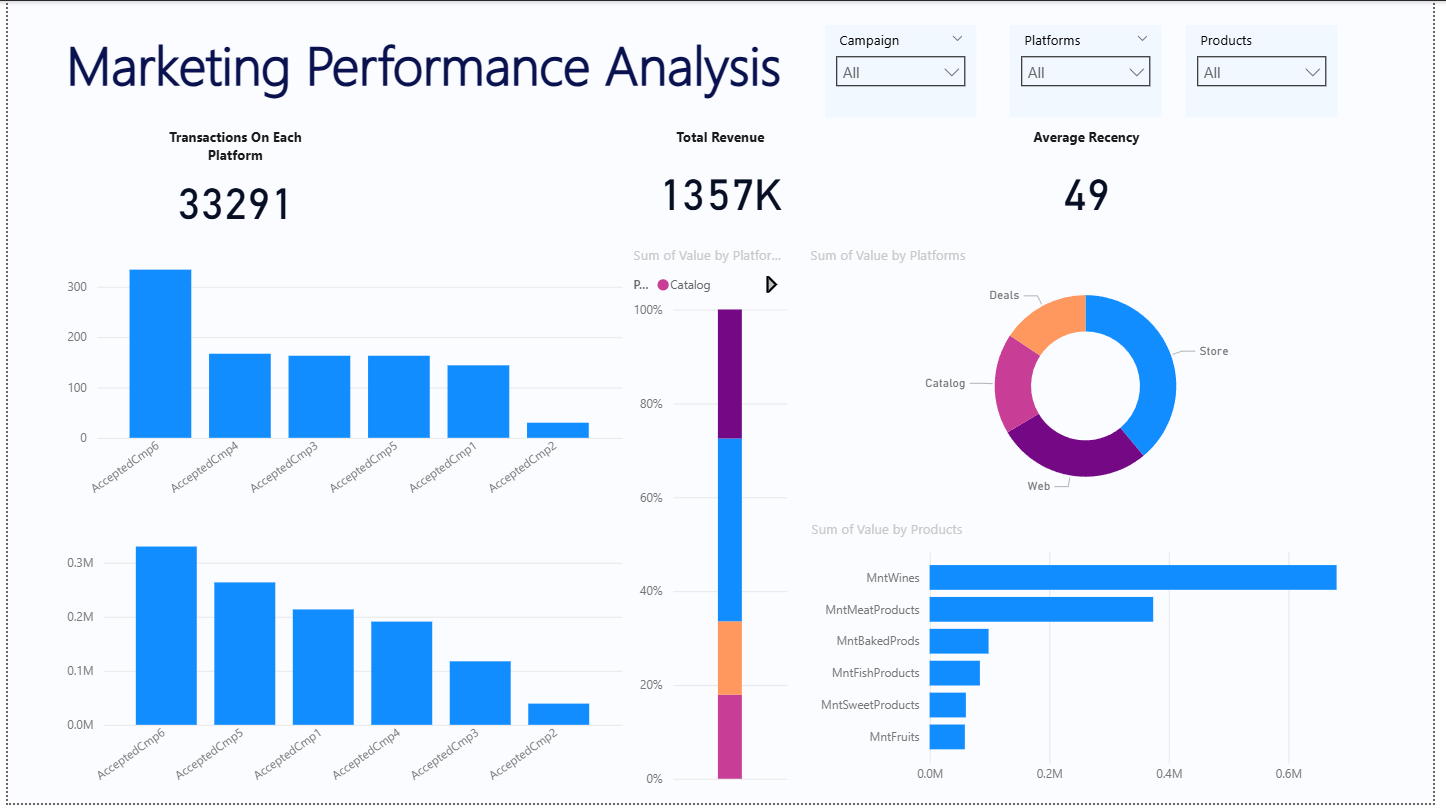

Layout of this report page (visuals, bound fields, positions):
{"tool":"powerbi","page":{"name":"Page 1","canvas":[1280,720],"ordinal":0},"visuals":[{"type":"clusteredColumnChart","fields":{"Y":["Sum(Campaign_Table.Value)"],"Category":["Campaign_Table.Campaign"]},"box":[47.6,220,509,235.2],"z":0},{"type":"clusteredColumnChart","fields":{"Y":["Measures_table.Total_Sales_By_Campaign"],"Category":["Campaign_Table.Campaign"]},"box":[47.6,465.9,509,246.9],"z":1000},{"type":"clusteredBarChart","fields":{"Category":["Product_Table.Products"],"Y":["Sum(Product_Table.Value)"]},"box":[716.4,465.9,503.6,246],"z":2000},{"type":"textbox","box":[47.6,18.9,657.2,78.1],"z":3000},{"type":"hundredPercentStackedColumnChart","fields":{"Y":["Sum(Platform_Table.Value)"],"Series":["Platform_Table.Platforms"]},"box":[556.6,220,148.1,492],"z":3001},{"type":"slicer","fields":{"Values":["Campaign_Table.Campaign"]},"box":[733.5,21.5,136.5,83.5],"z":3002},{"type":"donutChart","fields":{"Category":["Platform_Table.Platforms"],"Y":["Sum(Platform_Table.Value)"]},"box":[715.5,220,503.6,235.2],"z":3003},{"type":"slicer","fields":{"Values":["Platform_Table.Platforms"]},"box":[899.6,21.5,136.5,83.5],"z":3004},{"type":"slicer","fields":{"Values":["Product_Table.Products"]},"box":[1057.6,21.5,136.5,83.5],"z":3005},{"type":"card","title":"Transactions On Each Platform","fields":{"Values":["Sum(Platform_Table.Value)"]},"box":[120.3,114,167.9,97],"z":3006},{"type":"card","title":"Total Revenue","fields":{"Values":["Sum(Product_Table.Value)"]},"box":[559.3,114,160.7,97],"z":3007},{"type":"card","title":"Average Recency","fields":{"Values":["Avg(Data_Dim.Recency)"]},"box":[887.9,114,160.7,97],"z":3008}]}

Visuals, with their boxes in screenshot pixels (x1, y1, x2, y2), scaled from the page's 1280x720 canvas onto the 1446x808 screenshot:
clusteredColumnChart - Sum(Campaign_Table.Value) x Campaign_Table.Campaign: box=[54, 247, 629, 511]
clusteredColumnChart - Measures_table.Total_Sales_By_Campaign x Campaign_Table.Campaign: box=[54, 523, 629, 800]
clusteredBarChart - Product_Table.Products x Sum(Product_Table.Value): box=[809, 523, 1378, 799]
textbox: box=[54, 21, 796, 109]
hundredPercentStackedColumnChart - Sum(Platform_Table.Value) x Platform_Table.Platforms: box=[629, 247, 796, 799]
slicer - Campaign_Table.Campaign: box=[829, 24, 983, 118]
donutChart - Platform_Table.Platforms x Sum(Platform_Table.Value): box=[808, 247, 1377, 511]
slicer - Platform_Table.Platforms: box=[1016, 24, 1170, 118]
slicer - Product_Table.Products: box=[1195, 24, 1349, 118]
"Transactions On Each Platform" card: box=[136, 128, 326, 237]
"Total Revenue" card: box=[632, 128, 813, 237]
"Average Recency" card: box=[1003, 128, 1185, 237]
